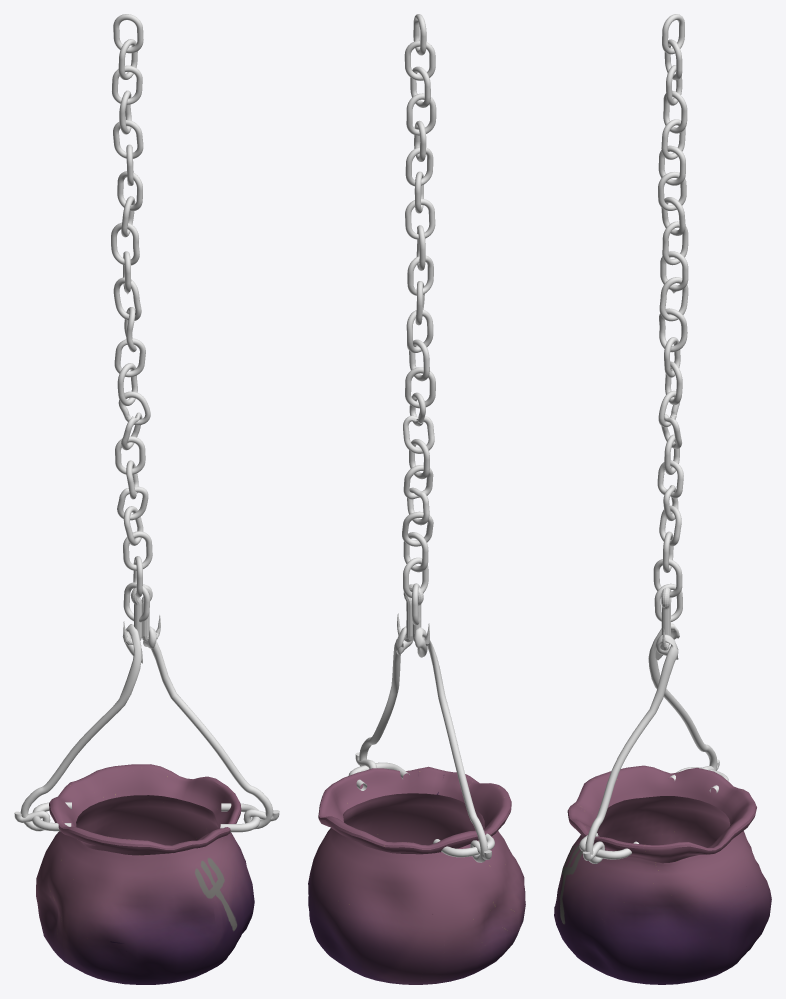
Rendered from pot-right1.fbx.
3 views of the same model, side by side, from view 1: azimuth 30°, elevation 25°; view 2: azimuth 150°, elevation 25°; view 3: azimuth 270°, elevation 25° (orthographic).
Visible parts, largest first — view 1: pot-right1, chain-right1; view 2: pot-right1, chain-right1; view 3: pot-right1, chain-right1.
Boxes of the visible parts, x1=… form: pot-right1: x1=36, y1=764, x2=254, y2=984; chain-right1: x1=14, y1=14, x2=279, y2=832; pot-right1: x1=308, y1=766, x2=525, y2=984; chain-right1: x1=348, y1=14, x2=494, y2=862; pot-right1: x1=554, y1=765, x2=771, y2=984; chain-right1: x1=579, y1=14, x2=728, y2=863.
Size of the model in its own units: 117 by 533 by 111.
